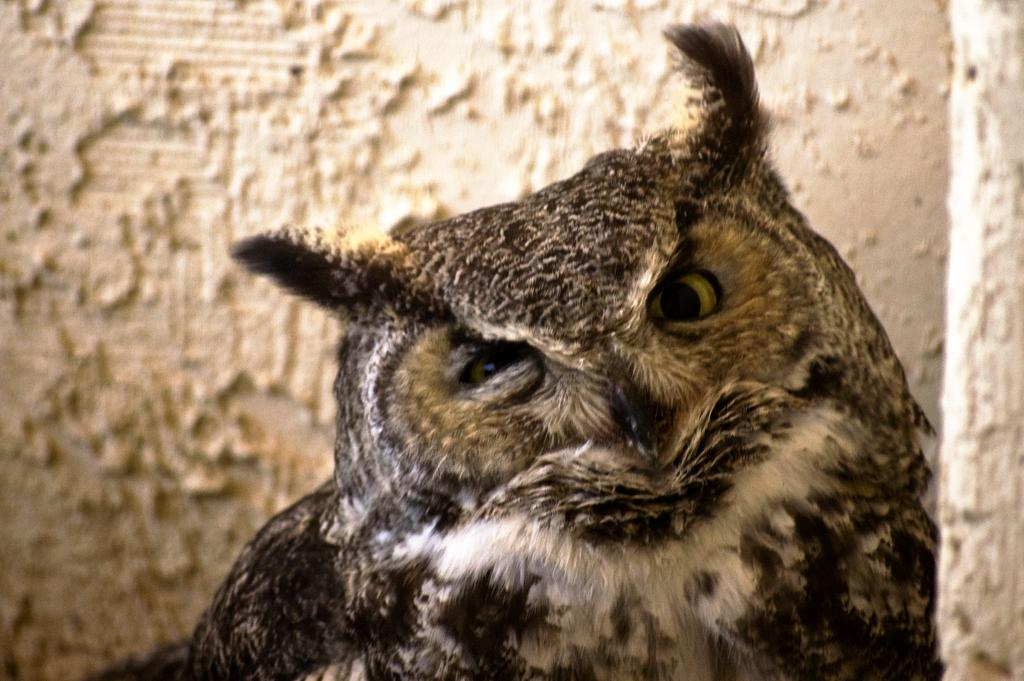Owl: (168, 15, 954, 681)
